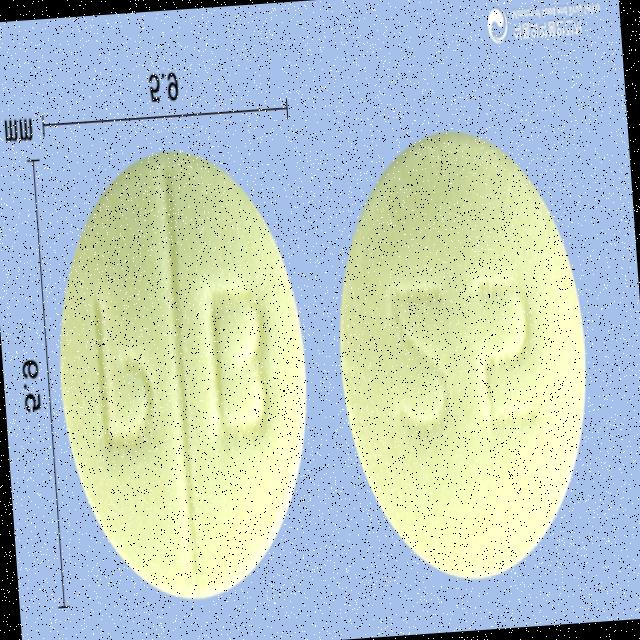Azabio - 50mg: (322, 118, 604, 594), (43, 140, 325, 614)
